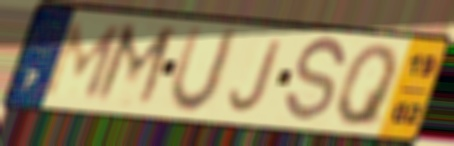J: (227, 36, 288, 115)
M: (89, 19, 181, 112), (39, 19, 128, 100)
Q: (334, 42, 401, 129)
S: (281, 35, 349, 128)
U: (165, 23, 243, 118)
